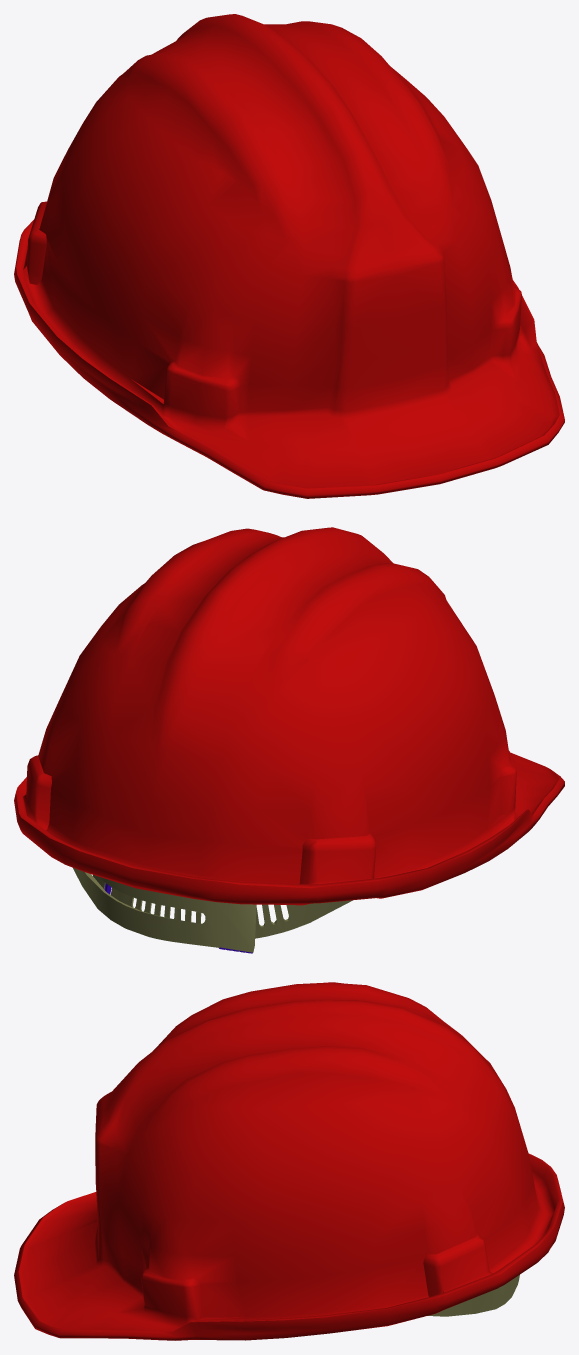
3 renders of one model, top to bottom at view 1: azimuth 30°, elevation 25°; view 2: azimuth 150°, elevation 25°; view 3: azimuth 270°, elevation 25°, orthographic. The views are drawn at different scales.
Parts seen in each view (by area): view 1: ppe_helmet; view 2: ppe_helmet; view 3: ppe_helmet.
Boxes of the visible parts, x1,y1,x2,y2 form: ppe_helmet: (14, 14, 564, 498); ppe_helmet: (14, 527, 564, 953); ppe_helmet: (14, 982, 564, 1340).
Size of the model in its own units: 0.2647 by 0.1902 by 0.3383.
